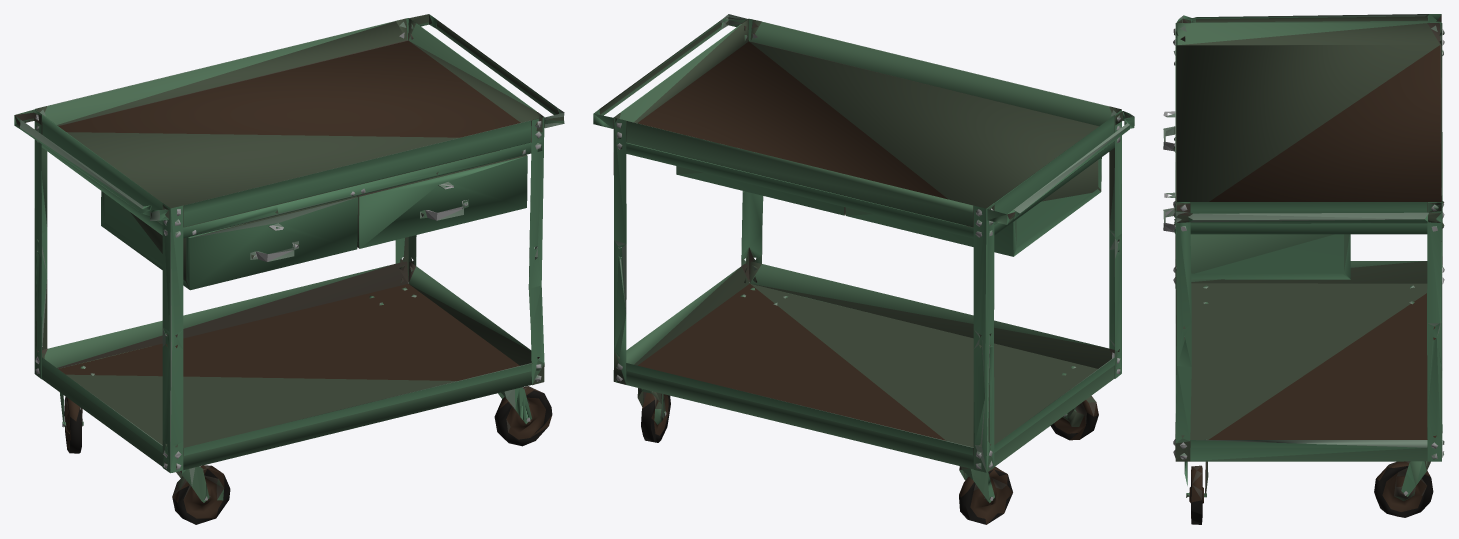
Rendered from tool-cart.glb.
The picture shows the model from 3 angles, left to right: view 1: azimuth 30°, elevation 25°; view 2: azimuth 150°, elevation 25°; view 3: azimuth 270°, elevation 25°; orthographic projection.
Visible parts, largest first — view 1: tool-cart; view 2: tool-cart; view 3: tool-cart.
Part boxes in pixels (left/top/right/bottom): tool-cart: left=14, top=14, right=564, bottom=524; tool-cart: left=593, top=14, right=1134, bottom=524; tool-cart: left=1163, top=14, right=1444, bottom=524.
Bounding box in the file's own units: 1.28 × 0.9637 × 0.7526.
